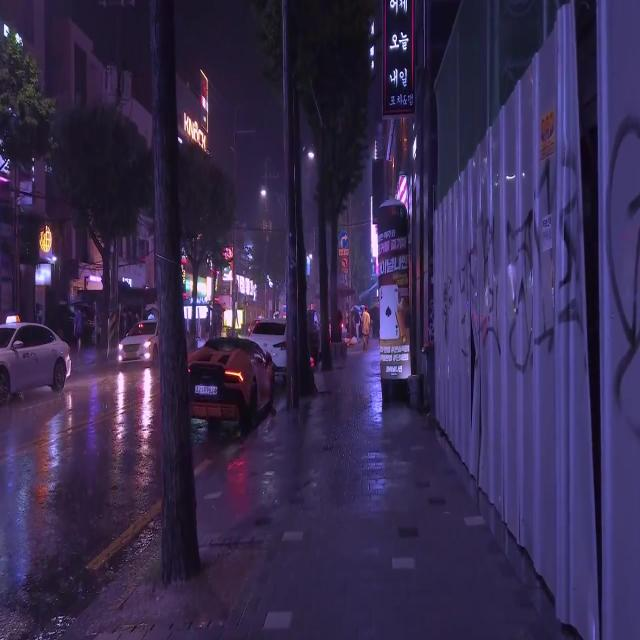Car: (187, 338, 274, 427), (5, 321, 70, 393)
